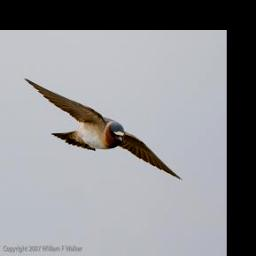Swallow: (22, 74, 182, 178)
